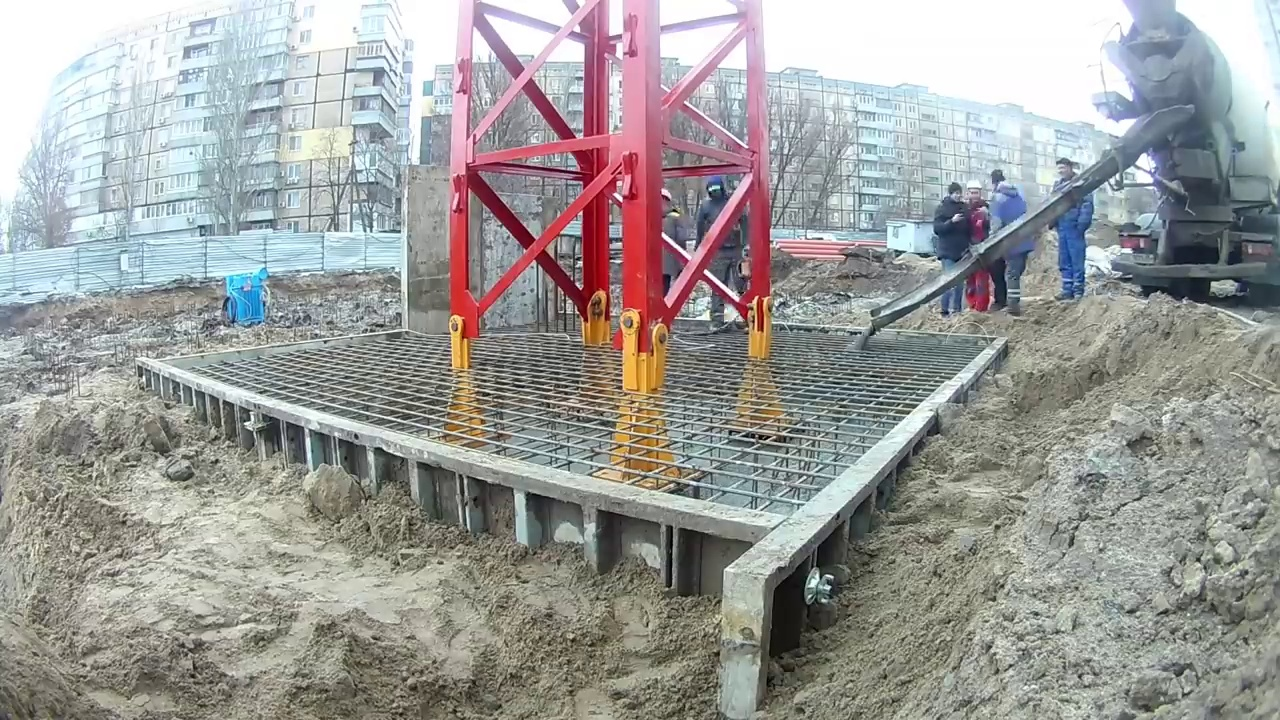helmet: (966, 180, 982, 191), (660, 189, 672, 201)
helmet-off: (987, 170, 1013, 198), (703, 177, 729, 204), (1053, 158, 1075, 183), (947, 184, 963, 202)
helmet-on: (965, 178, 984, 207), (660, 188, 673, 211)
person: (695, 177, 752, 335), (1048, 158, 1093, 306), (986, 173, 1029, 318), (934, 181, 969, 318), (964, 178, 994, 315), (659, 187, 687, 295)
